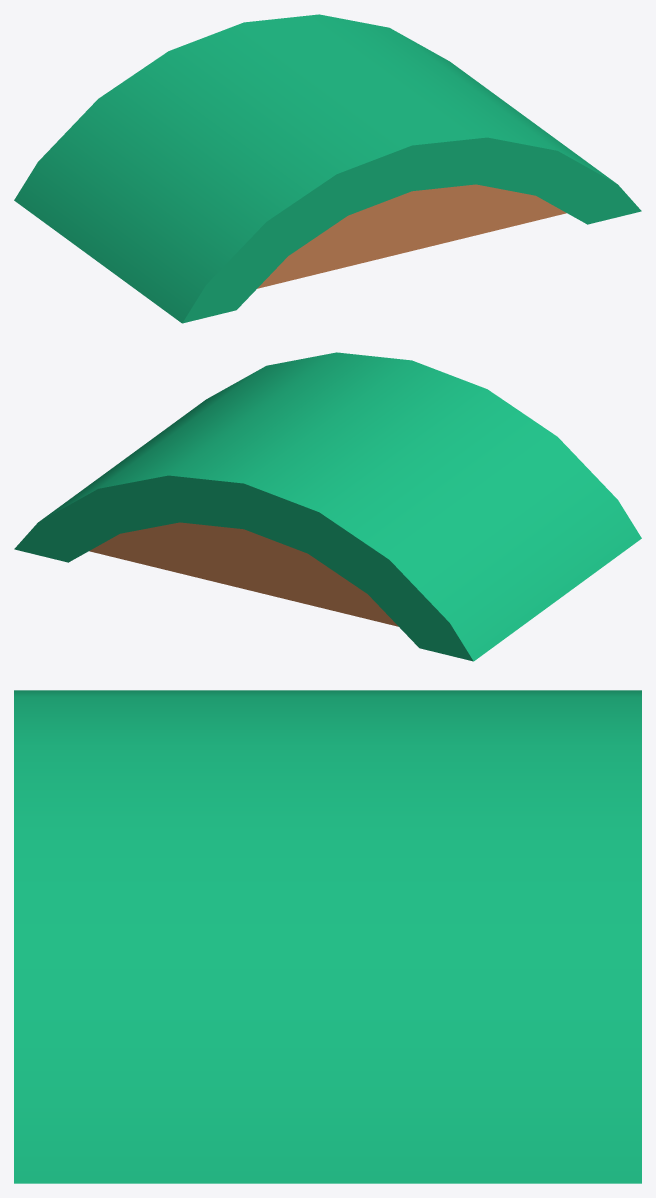
File: blockCurveLow.obj
3 renders of one model, top to bottom at view 1: azimuth 30°, elevation 25°; view 2: azimuth 150°, elevation 25°; view 3: azimuth 270°, elevation 25°, orthographic. The views are drawn at different scales.
Visible parts, largest first — view 1: blockCurveLow; view 2: blockCurveLow; view 3: blockCurveLow.
Part boxes in pixels (<box>): blockCurveLow: <box>14,14,641,323</box>; blockCurveLow: <box>14,352,641,661</box>; blockCurveLow: <box>14,690,641,1183</box>.
Size of the model in its own units: 1.58 by 0.4 by 1.
